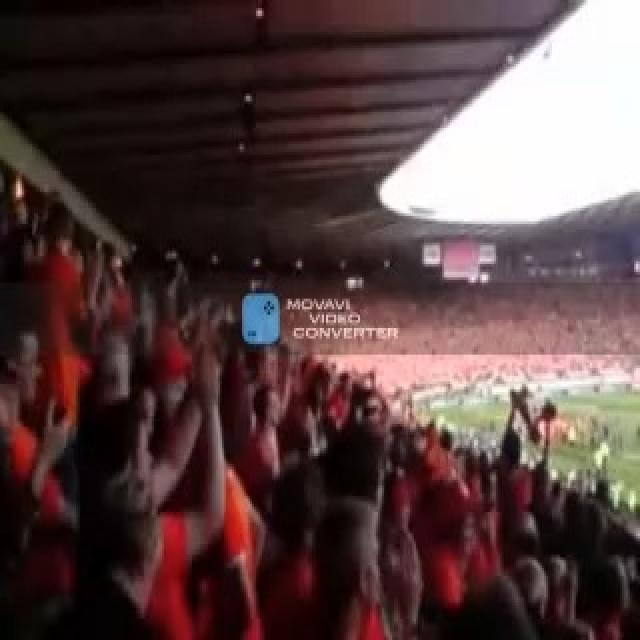non-voilence: (0, 171, 638, 637), (282, 293, 400, 344), (238, 288, 280, 347)
